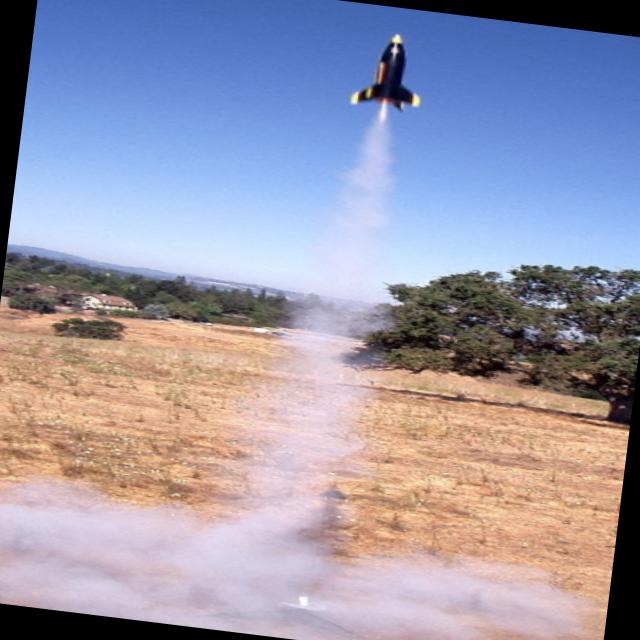rocket: (314, 24, 437, 291)
